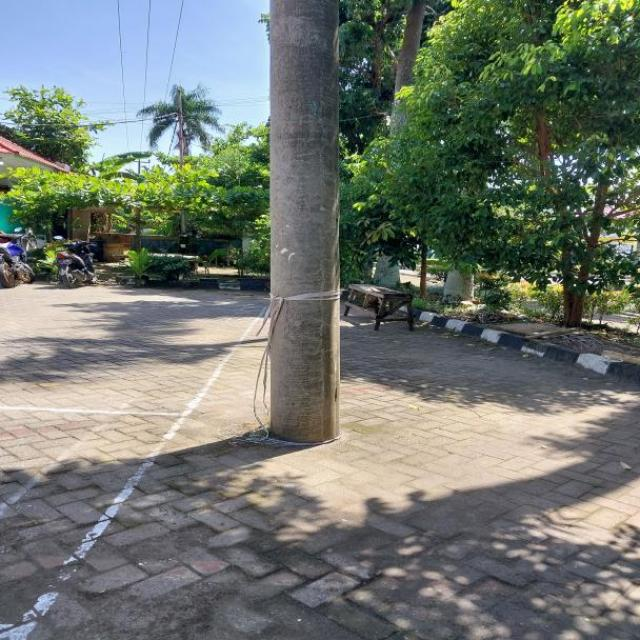tree ahead at: (262, 0, 346, 451)
